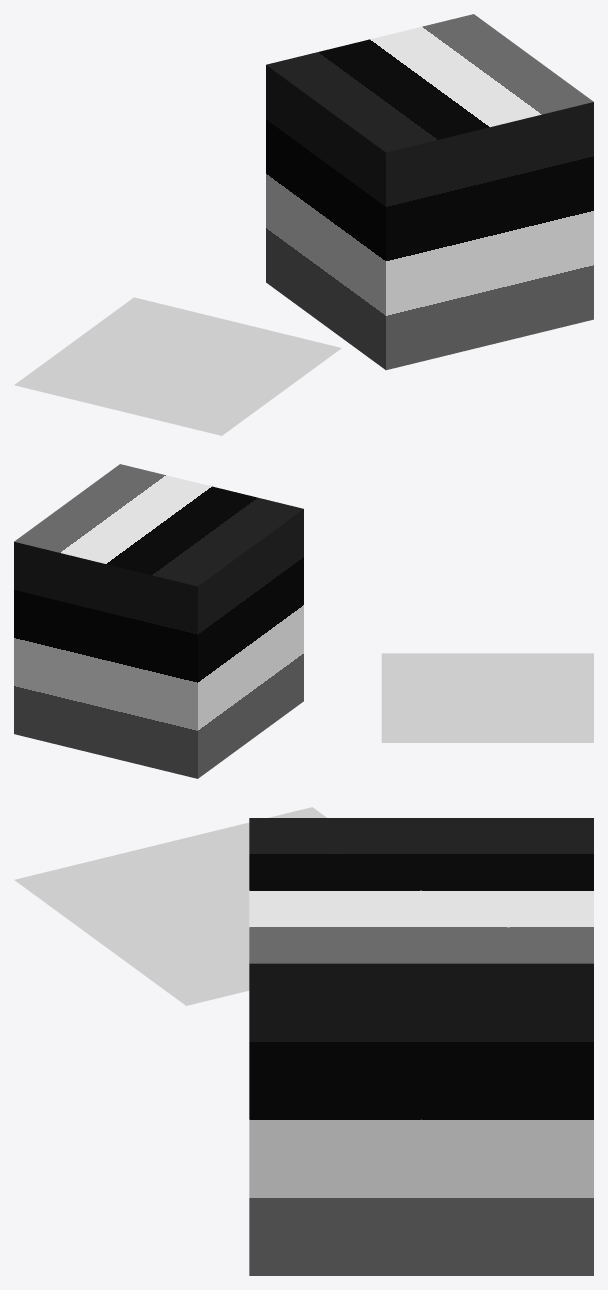
File: blender_scene.fbx
3 views of the same model, one above another, from view 1: azimuth 30°, elevation 25°; view 2: azimuth 150°, elevation 25°; view 3: azimuth 270°, elevation 25° (orthographic). The views are drawn at different scales.
Parts seen in each view (by area): view 1: Crate, MirroredPlane; view 2: Crate, MirroredPlane; view 3: Crate, MirroredPlane.
Boxes of the visible parts, x1,y1,x2,y2 form: Crate: (266,14,593,370); MirroredPlane: (14,297,341,435); Crate: (14,464,303,778); MirroredPlane: (381,653,593,742); Crate: (249,818,593,1275); MirroredPlane: (14,807,326,1005).
Size of the model in its own units: 537 by 200 by 337.
Materials: 1 (1 with a texture image).
